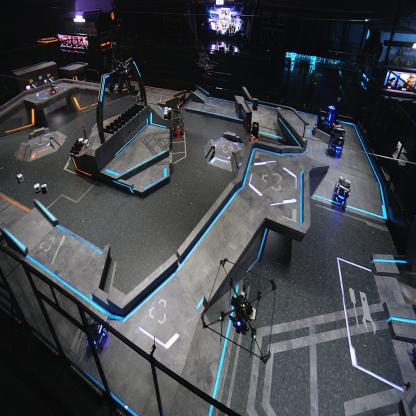car: (82, 312, 108, 355), (332, 176, 352, 210), (327, 122, 346, 157), (171, 110, 184, 136), (248, 120, 260, 144), (47, 84, 58, 97)
